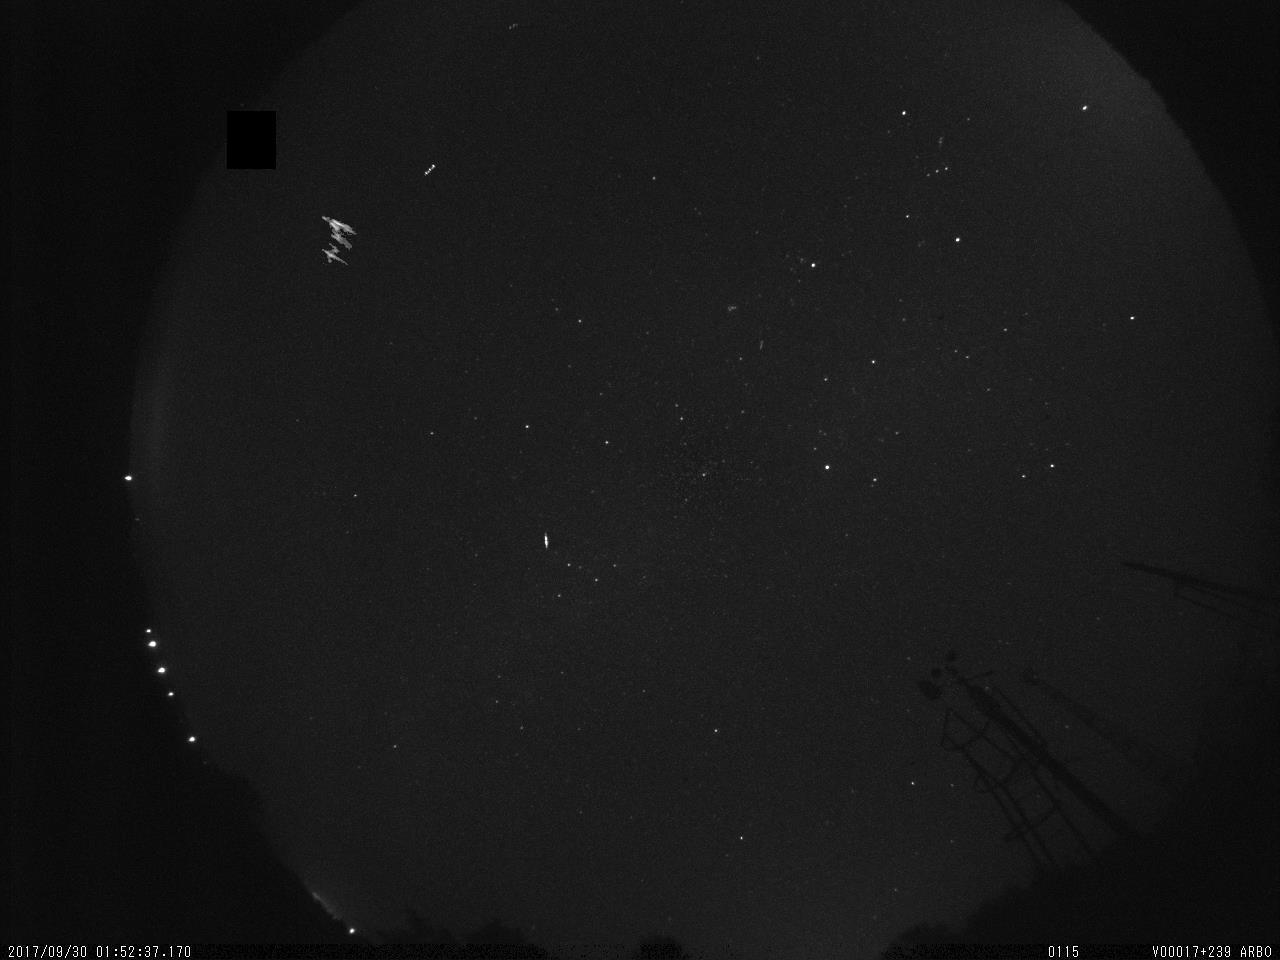TLE: (297, 206, 376, 297)
